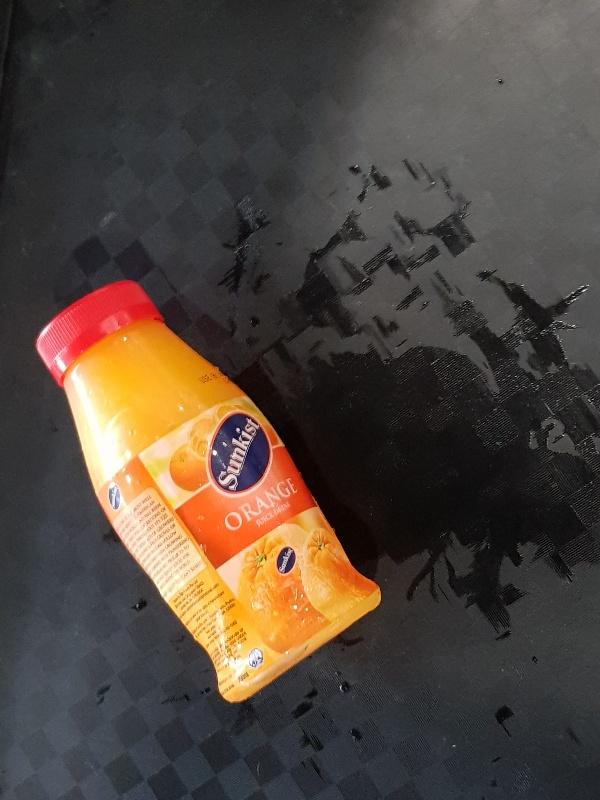Sunkist Orange Juice Drink: (34, 276, 381, 705)
